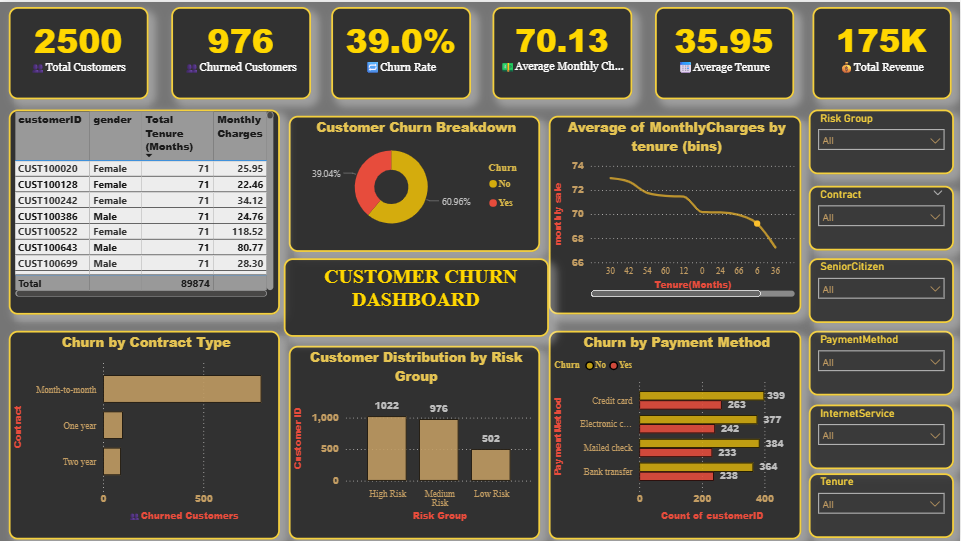

What the dashboard file says about the page in this screenshot:
{"tool":"powerbi","page":{"name":"Page 1","canvas":[1280,720],"ordinal":0},"visuals":[{"type":"card","fields":{"Values":["customer_churn.Total Customer"]},"box":[11,6.9,186.6,123.5],"z":0},{"type":"card","fields":{"Values":["customer_churn.Average Monthly Charges"]},"box":[655.9,6.9,186.6,123.5],"z":1000},{"type":"card","fields":{"Values":["customer_churn.Average Tenure"]},"box":[872.7,6.9,185.2,123.5],"z":2000},{"type":"card","fields":{"Values":["customer_churn.Total Revenue"]},"box":[1084.1,6.9,185.2,123.5],"z":3000},{"type":"card","fields":{"Values":["customer_churn.Churn Rate"]},"box":[441.9,6.9,186.6,123.5],"z":4000},{"type":"card","fields":{"Values":["customer_churn.Churned Customers"]},"box":[229.2,6.9,186.6,123.5],"z":5000},{"type":"donutChart","title":"Customer Churn Breakdown","fields":{"Y":["CountNonNull(customer_churn.customerID)"],"Category":["customer_churn.Churn"]},"box":[385,151.7,335,181.7],"z":6000},{"type":"barChart","title":"Churn by Contract Type","fields":{"Category":["customer_churn.Contract"],"Y":["customer_churn.Churned Customers"]},"box":[11.7,438.3,361.7,278.3],"z":7000},{"type":"columnChart","title":"Customer Distribution by Risk Group","fields":{"Category":["customer_churn.Risk Group"],"Y":["CountNonNull(customer_churn.customerID)"]},"box":[385,458.3,335,258.3],"z":8000},{"type":"lineChart","fields":{"Y":["Avg(customer_churn.MonthlyCharges)"],"Category":["customer_churn.tenure (bins)"]},"box":[731.7,151.7,336.7,265],"z":10000},{"type":"clusteredBarChart","title":"Churn by Payment Method","fields":{"Category":["customer_churn.PaymentMethod"],"Y":["CountNonNull(customer_churn.customerID)"],"Series":["customer_churn.Churn"]},"box":[731.7,438.3,336.7,278.3],"z":11000},{"type":"tableEx","title":"Customer Tenure & Charges Table","fields":{"Values":["customer_churn.customerID","customer_churn.gender","Sum(customer_churn.tenure)","customer_churn.MonthlyCharges"]},"box":[11.7,143.3,361.7,273.3],"z":12000},{"type":"slicer","fields":{"Values":["customer_churn.Risk Group"]},"box":[1078.6,142.7,193.5,86.4],"z":13000},{"type":"slicer","fields":{"Values":["customer_churn.Contract"]},"box":[1078.6,245.6,193.5,86.4],"z":14000},{"type":"slicer","fields":{"Values":["customer_churn.PaymentMethod"]},"box":[1078.6,439.1,193.5,86.4],"z":15000},{"type":"slicer","fields":{"Values":["customer_churn.InternetService"]},"box":[1078.6,536.5,193.5,86.4],"z":16000},{"type":"slicer","fields":{"Values":["customer_churn.tenure"]},"box":[1078.3,628.3,193.3,86.7],"z":17000},{"type":"slicer","fields":{"Values":["customer_churn.SeniorCitizen"]},"box":[1078.6,341.7,193.5,86.4],"z":18000},{"type":"textbox","box":[378.3,341.7,353.3,105],"z":19000}]}

Visuals, with their boxes in screenshot pixels (x1, y1, x2, y2), scaled from the page's 1280x720 canvas onto the 961x541 screenshot:
card - customer_churn.Total Customer: [8,5,148,98]
card - customer_churn.Average Monthly Charges: [492,5,633,98]
card - customer_churn.Average Tenure: [655,5,794,98]
card - customer_churn.Total Revenue: [814,5,953,98]
card - customer_churn.Churn Rate: [332,5,472,98]
card - customer_churn.Churned Customers: [172,5,312,98]
"Customer Churn Breakdown" donutChart: [289,114,541,251]
"Churn by Contract Type" barChart: [9,329,280,538]
"Customer Distribution by Risk Group" columnChart: [289,344,541,538]
lineChart - Avg(customer_churn.MonthlyCharges) x customer_churn.tenure (bins): [549,114,802,313]
"Churn by Payment Method" clusteredBarChart: [549,329,802,538]
"Customer Tenure & Charges Table" tableEx: [9,108,280,313]
slicer - customer_churn.Risk Group: [810,107,955,172]
slicer - customer_churn.Contract: [810,185,955,249]
slicer - customer_churn.PaymentMethod: [810,330,955,395]
slicer - customer_churn.InternetService: [810,403,955,468]
slicer - customer_churn.tenure: [810,472,955,537]
slicer - customer_churn.SeniorCitizen: [810,257,955,322]
textbox: [284,257,549,336]
